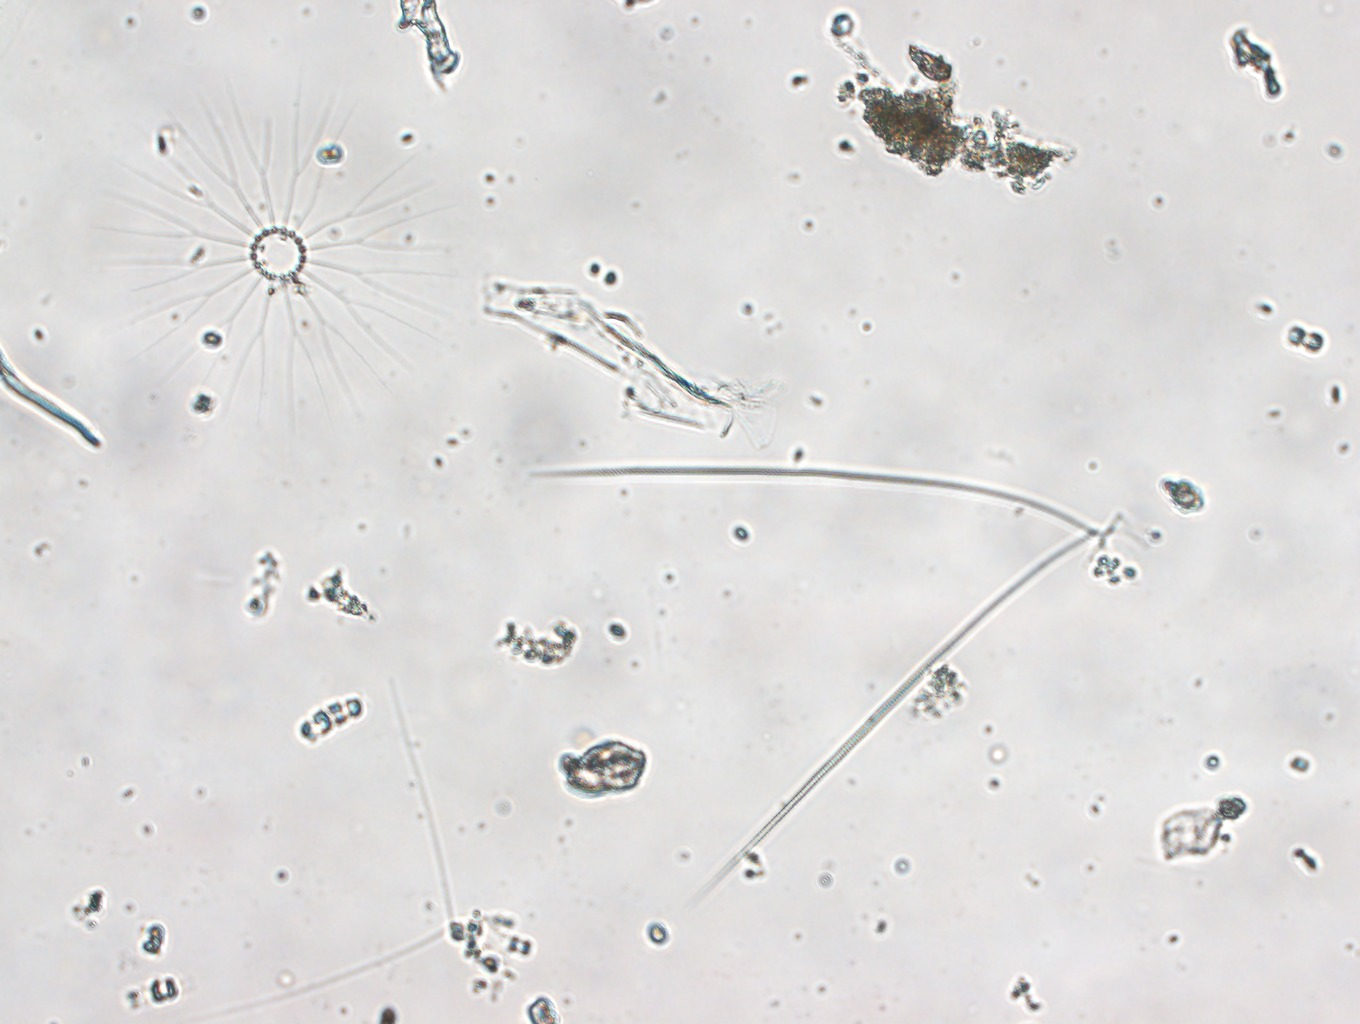bacteriastrum: (99, 72, 454, 426)
